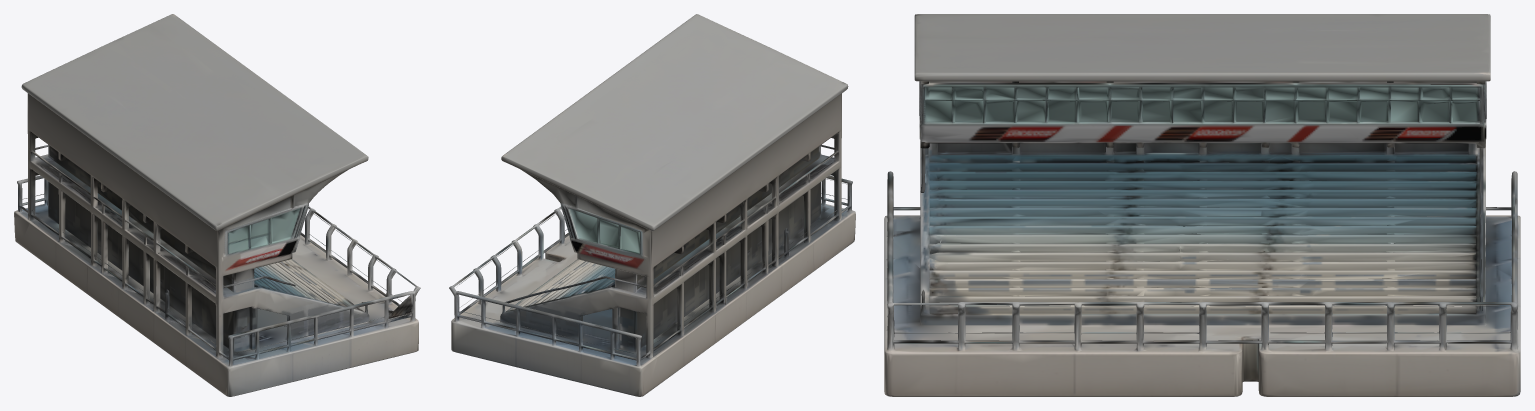
The model's file is generated_grandstand_hunyuan.glb.
3 renders of one model, left to right at view 1: azimuth 30°, elevation 25°; view 2: azimuth 150°, elevation 25°; view 3: azimuth 270°, elevation 25°, orthographic. The views are drawn at different scales.
Visible parts, largest first — view 1: node_0; view 2: node_0; view 3: node_0.
Part boxes in pixels (<box>): node_0: <box>14,14,420,396</box>; node_0: <box>449,14,855,396</box>; node_0: <box>884,14,1520,396</box>.
Bounding box in the file's own units: 0.5162 × 0.4975 × 0.9783.
Materials: 1 (1 with a texture image).
